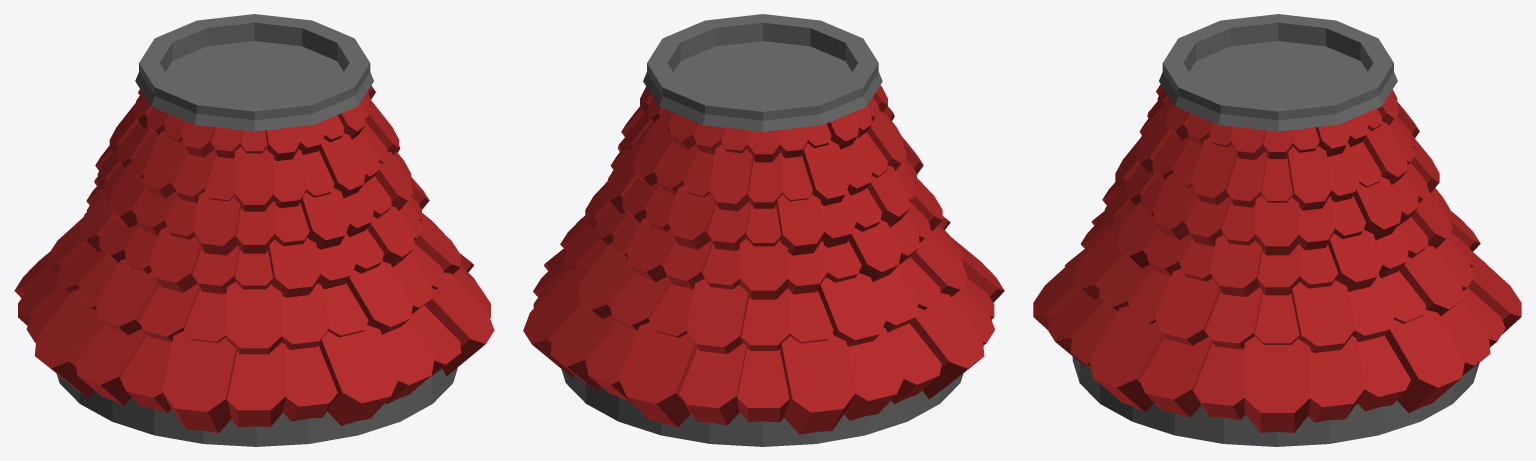
Rendered from Prop_Building_Fantasy_Peak_Roof_Shingles_02.FBX.
The picture shows the model from 3 angles, left to right: view 1: azimuth 30°, elevation 25°; view 2: azimuth 150°, elevation 25°; view 3: azimuth 270°, elevation 25°; orthographic projection.
Visible parts, largest first — view 1: Prop_Building_Fantasy_Peak_Roof_Shingles_02; view 2: Prop_Building_Fantasy_Peak_Roof_Shingles_02; view 3: Prop_Building_Fantasy_Peak_Roof_Shingles_02.
Part boxes in pixels (x1,y1,x2,y2): Prop_Building_Fantasy_Peak_Roof_Shingles_02: (14, 14, 494, 446); Prop_Building_Fantasy_Peak_Roof_Shingles_02: (523, 14, 1004, 446); Prop_Building_Fantasy_Peak_Roof_Shingles_02: (1033, 14, 1521, 446).
Bounding box in the file's own units: 8641 × 5812 × 8641.
